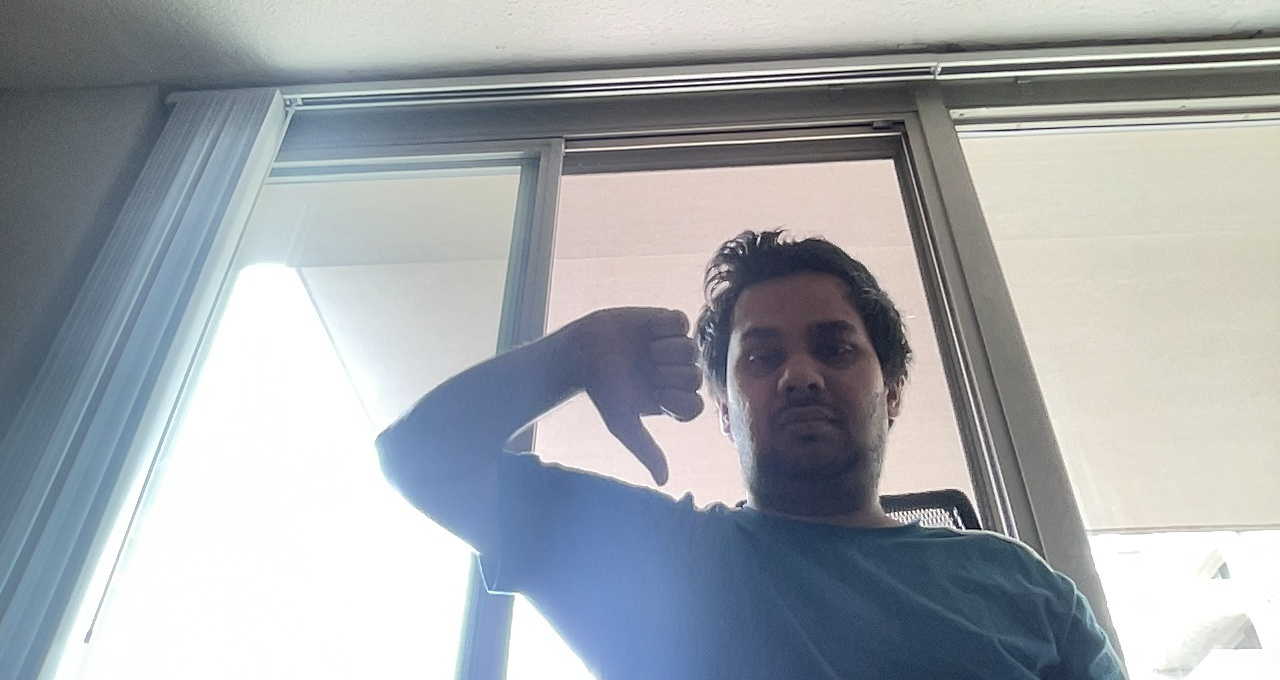thumbsdown: (573, 296, 712, 476)
